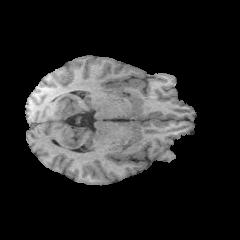glioma: (101, 63, 149, 94)
